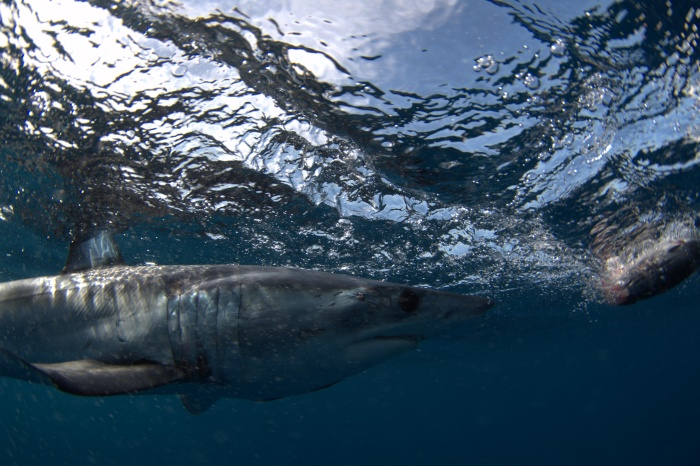Mako: (1, 212, 506, 420)
